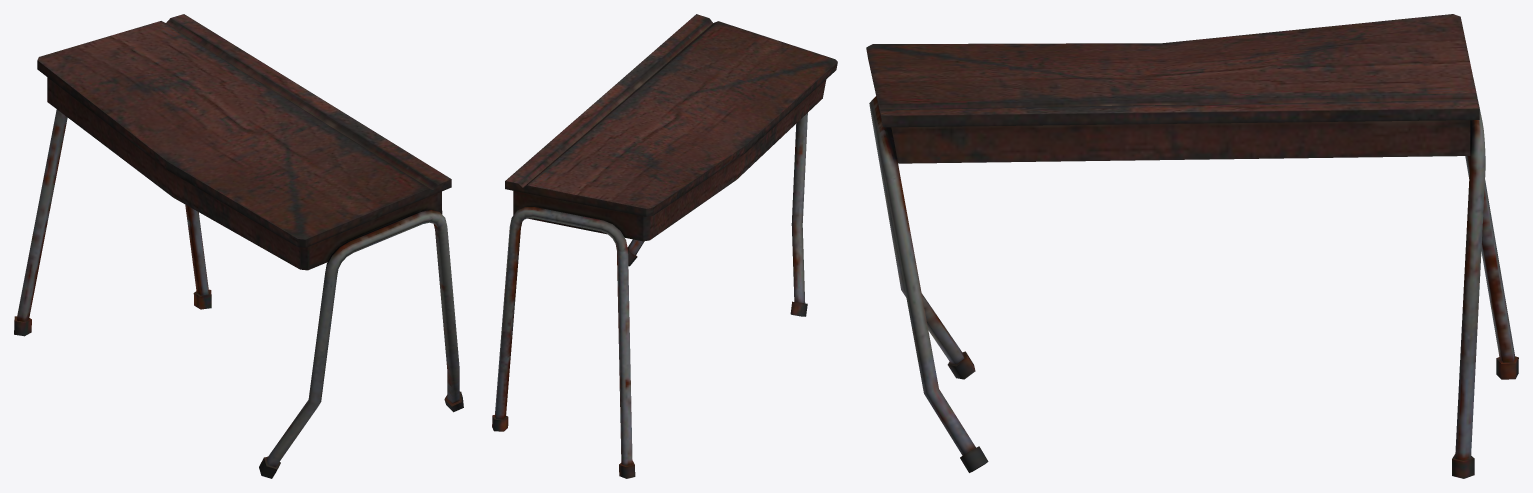
Rendered from L_DeskBroken.FBX.
The picture shows the model from 3 angles, left to right: view 1: azimuth 30°, elevation 25°; view 2: azimuth 150°, elevation 25°; view 3: azimuth 270°, elevation 25°; orthographic projection. The views are drawn at different scales.
Parts seen in each view (by area): view 1: L_DeskBroken; view 2: L_DeskBroken; view 3: L_DeskBroken.
Boxes of the visible parts, <box> form: L_DeskBroken: <box>14,14,463,478</box>; L_DeskBroken: <box>492,14,837,478</box>; L_DeskBroken: <box>866,14,1518,478</box>.
Bounding box in the file's own units: 76.55 × 92.27 × 149.
